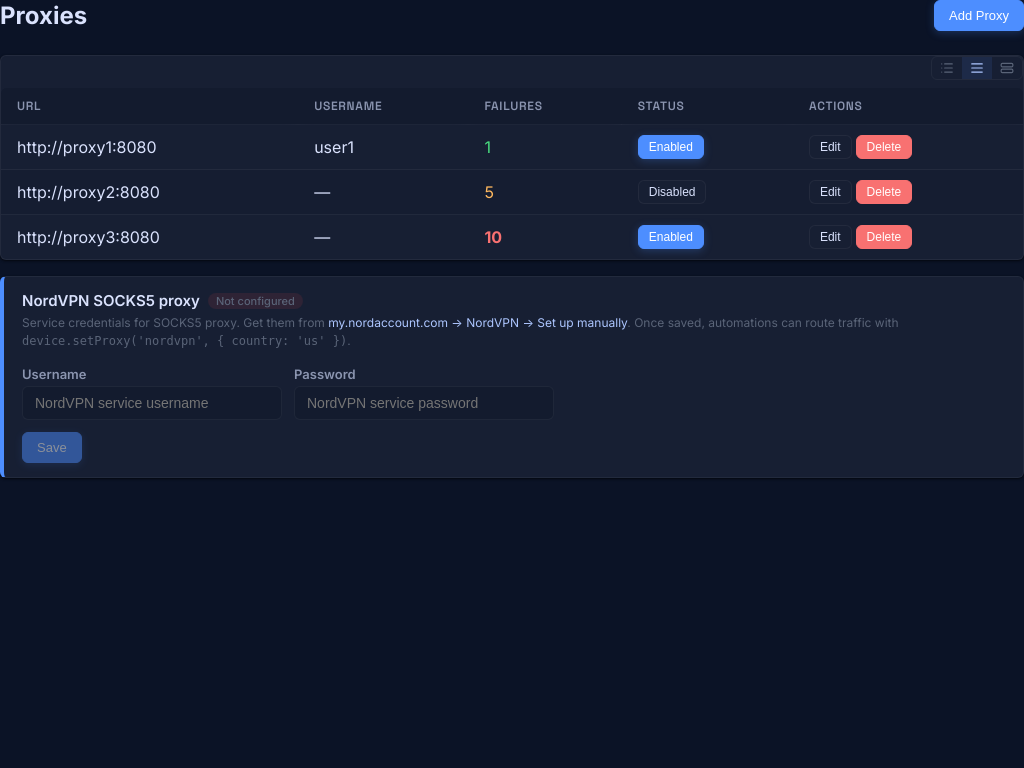
it: Proxies › opens add proxy modal
The width and height of the screenshot is (1024, 768).
Step 1. Click the button with test id "add-proxy-btn" → (979, 16), box 934,0 -> 1023,31
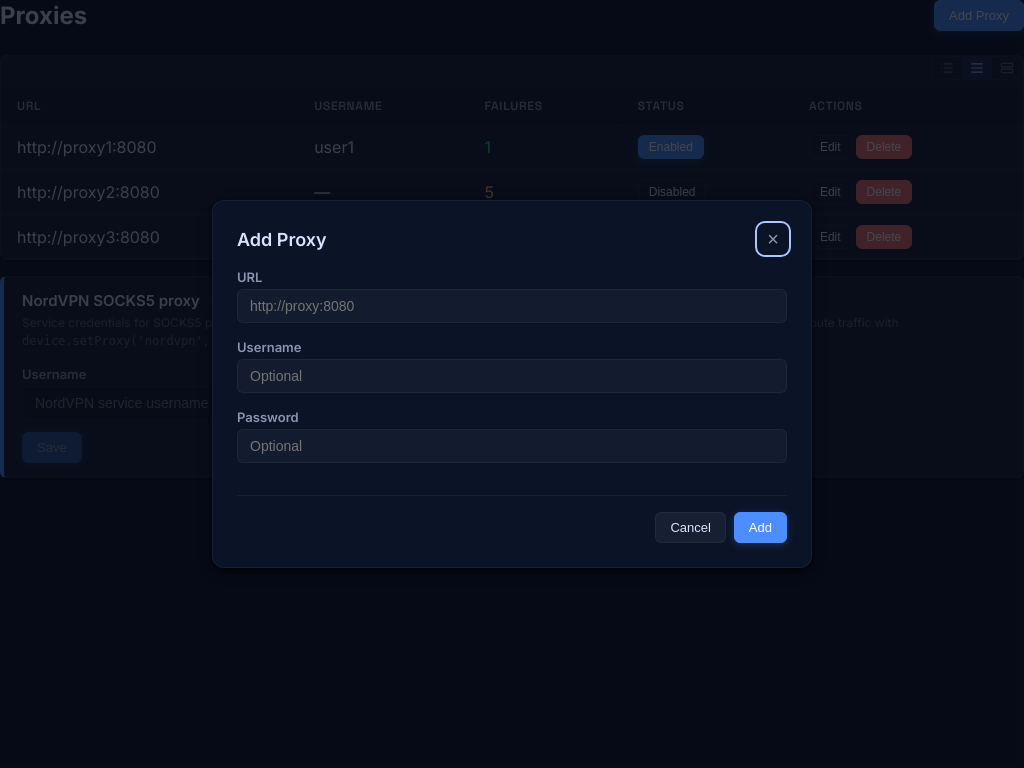
Check: the element with test id "modal" is shown, box 212,200 -> 812,568
Check: the heading "Add Proxy" is shown, box 237,228 -> 327,250
